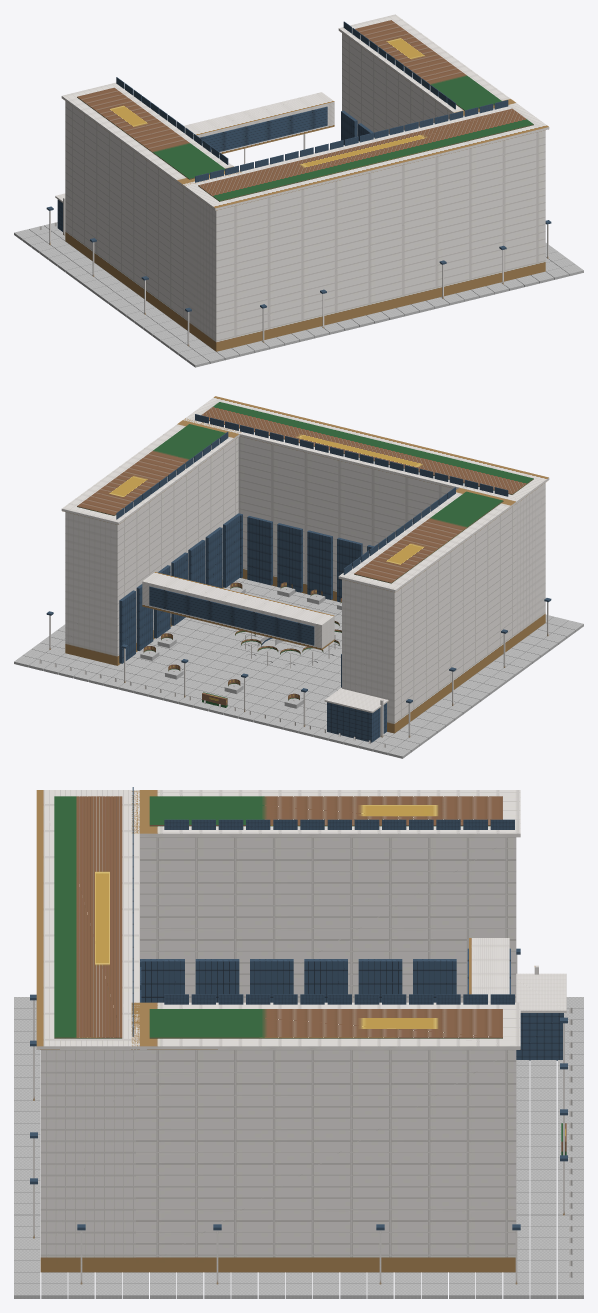
3 renders of one model, top to bottom at view 1: azimuth 30°, elevation 25°; view 2: azimuth 150°, elevation 25°; view 3: azimuth 270°, elevation 25°, orthographic. The views are drawn at different scales.
Visible parts, largest first — view 1: 28185_B10_송도_현대프리미엄아울렛; view 2: 28185_B10_송도_현대프리미엄아울렛; view 3: 28185_B10_송도_현대프리미엄아울렛.
Part boxes in pixels (x1=…): 28185_B10_송도_현대프리미엄아울렛: x1=14, y1=14, x2=583, y2=367; 28185_B10_송도_현대프리미엄아울렛: x1=14, y1=396, x2=583, y2=758; 28185_B10_송도_현대프리미엄아울렛: x1=14, y1=787, x2=583, y2=1298.
Bounding box in the file's own units: 51.94 × 19.7 × 41.94.
1 material, 1 textured.
